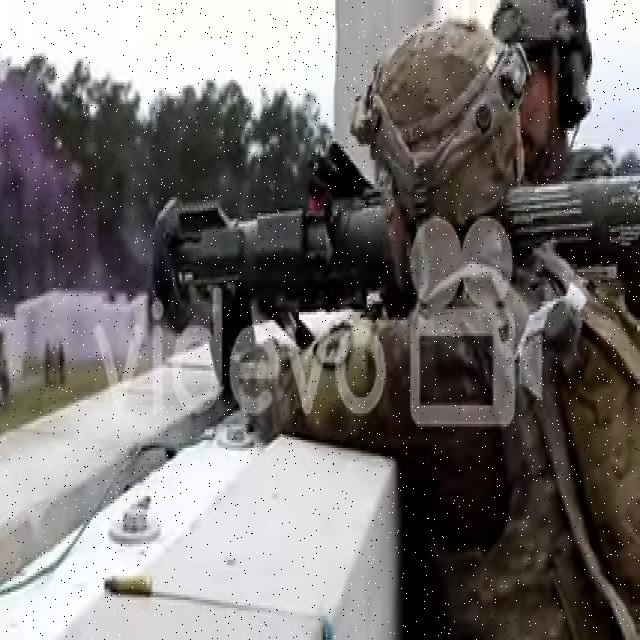bazooka: (147, 158, 640, 409)
